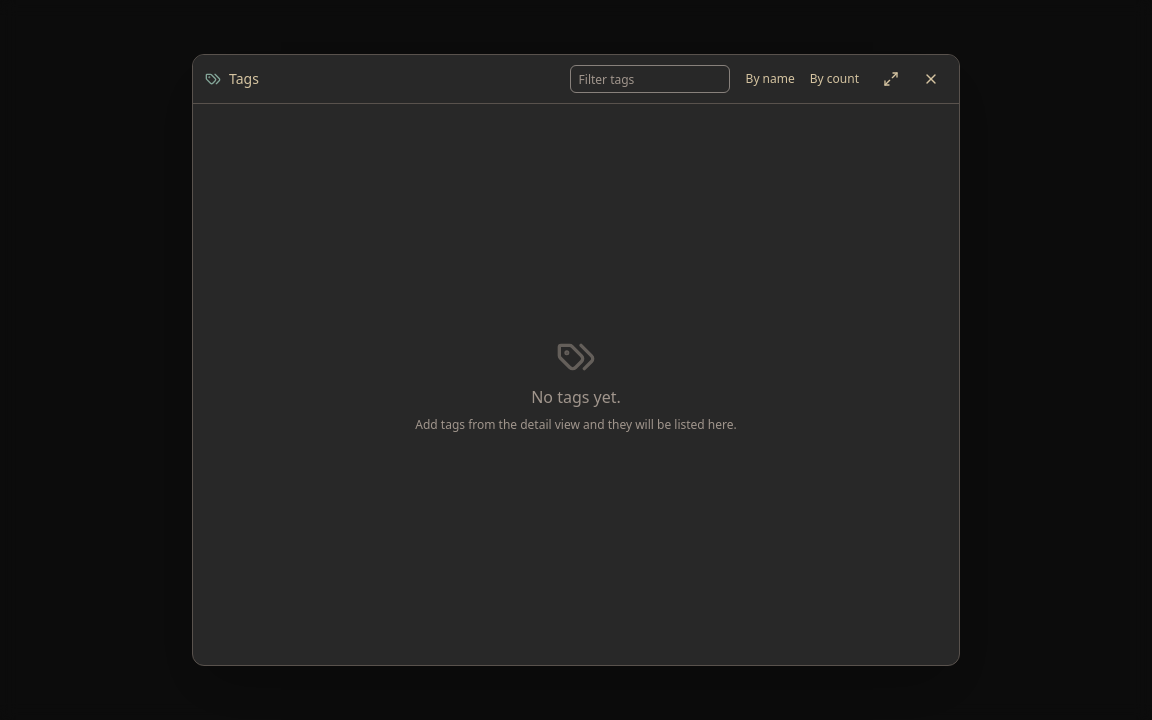
Test: Tags screen › toggles the modal size and persists it
The width and height of the screenshot is (1152, 720).
Click the button named "Enlarge modal" at (891, 79), box [875,65,907,93]
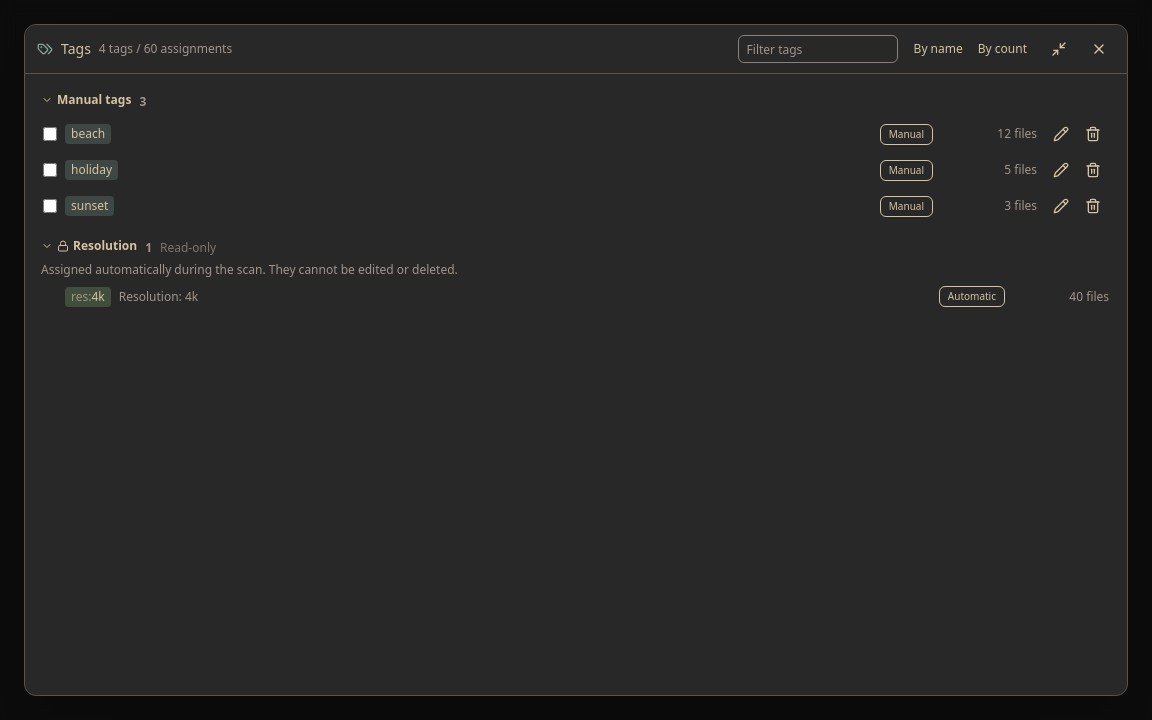
Check: the button named "Shrink modal" is shown, box [1043,35,1075,63]
